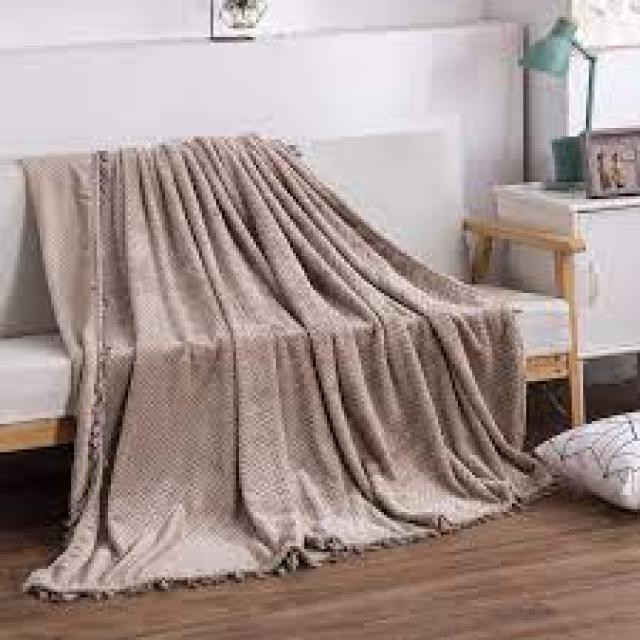blanket: (26, 139, 550, 598)
